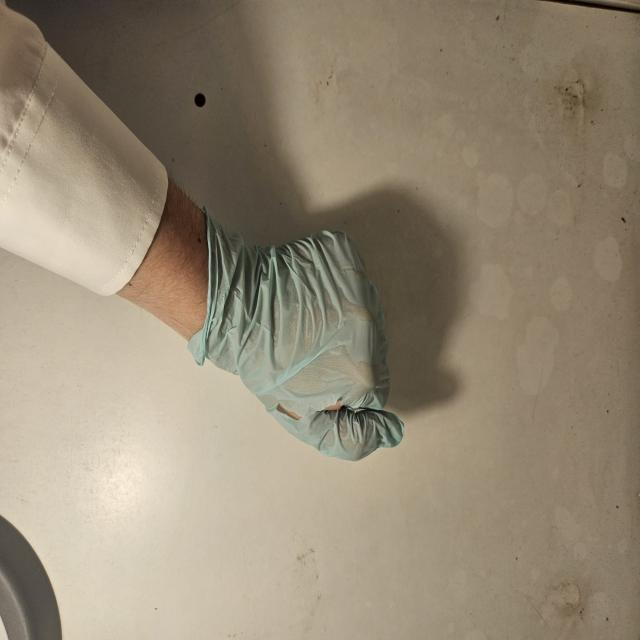gloves_damaged: (193, 203, 409, 467)
